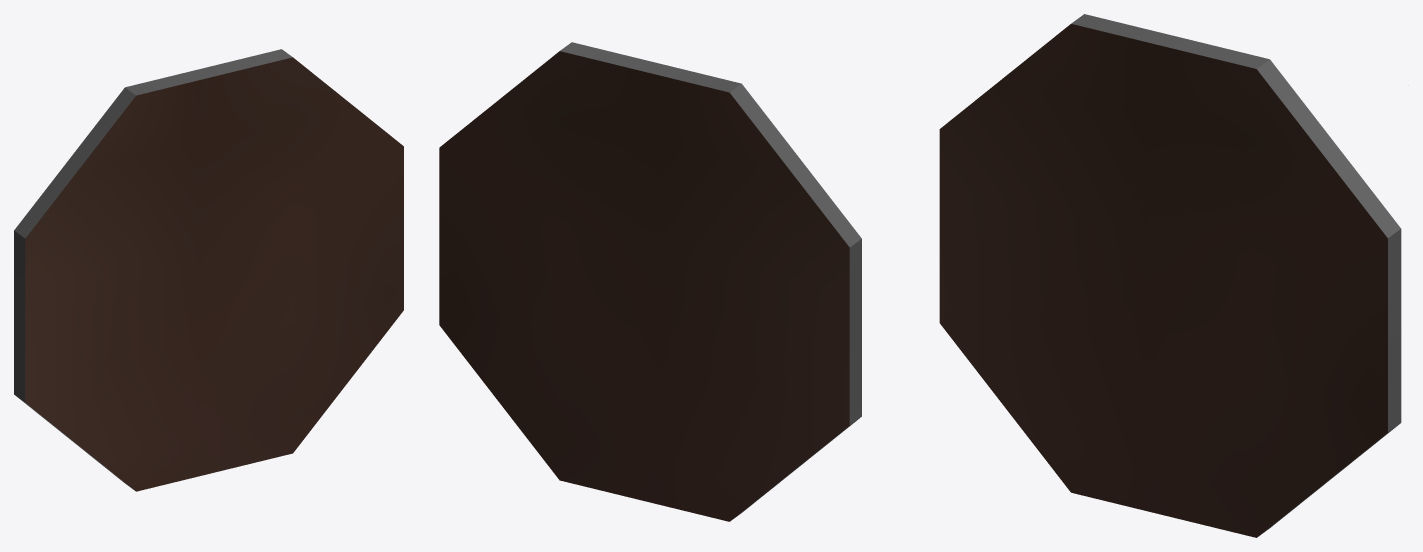
The model's file is Schild_LOD0.dae.
3 views of the same model, side by side, from view 1: azimuth 30°, elevation 25°; view 2: azimuth 150°, elevation 25°; view 3: azimuth 330°, elevation 25° (orthographic). The views are drawn at different scales.
Parts seen in each view (by area): view 1: Schild_LOD0; view 2: Schild_LOD0; view 3: Schild_LOD0.
Part boxes in pixels (x1,y1,x2,y2): Schild_LOD0: (14, 49, 403, 491); Schild_LOD0: (439, 42, 861, 521); Schild_LOD0: (939, 14, 1401, 537).
Size of the model in its own units: 0.85 by 0.105 by 0.85.
1 material, 1 textured.
